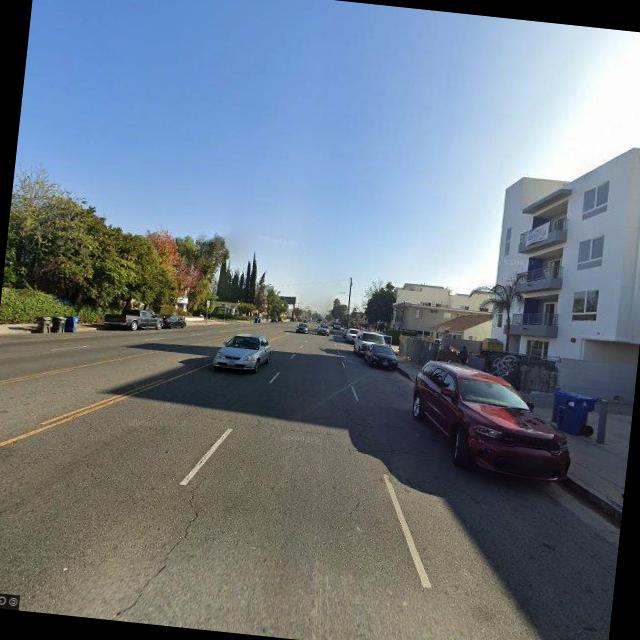pothole: (93, 464, 212, 626)
